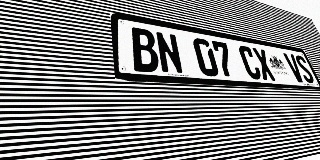0: (192, 37, 220, 77)
7: (210, 40, 238, 78)
B: (129, 27, 161, 73)
C: (237, 45, 263, 80)
N: (154, 31, 185, 75)
S: (293, 55, 316, 83)
V: (283, 53, 306, 83)
X: (251, 47, 277, 81)
